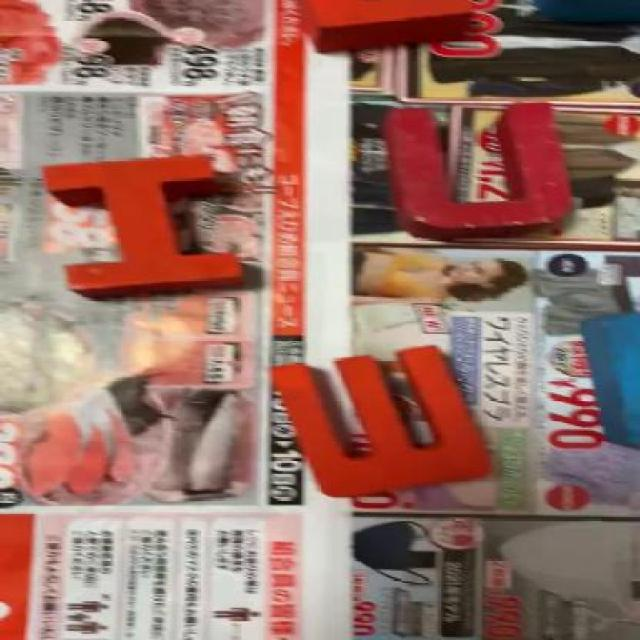I: (48, 154, 249, 292)
U: (386, 104, 572, 238)
W: (268, 348, 494, 492)
